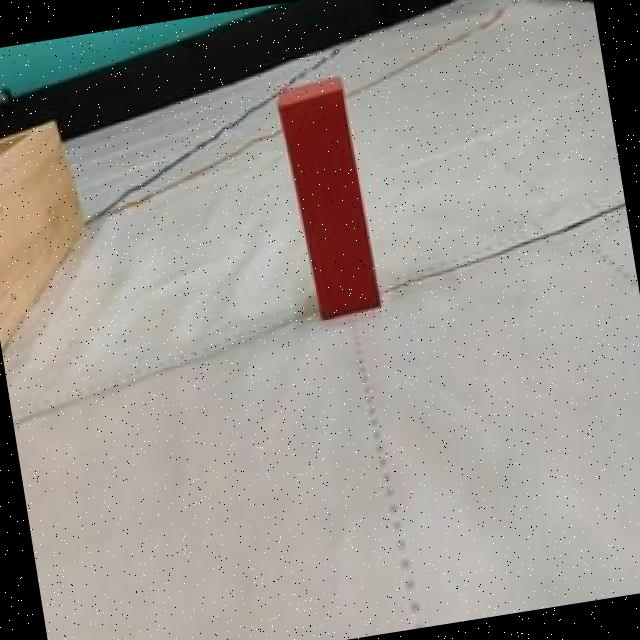redbox: (272, 70, 380, 324)
